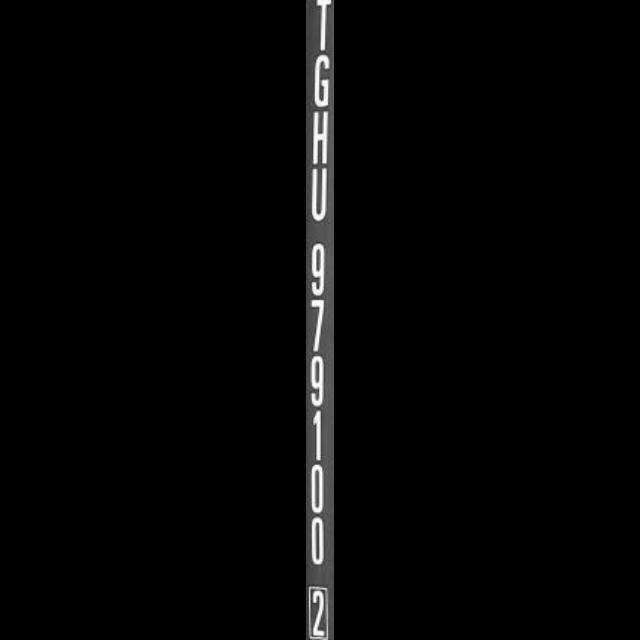0: (306, 513, 334, 569), (306, 465, 334, 513)
1: (306, 408, 334, 466)
2: (306, 582, 334, 640)
7: (306, 297, 334, 353)
9: (306, 238, 334, 296), (306, 352, 334, 408)
g: (306, 49, 334, 109)
h: (306, 106, 334, 166)
t: (306, 0, 334, 50)
u: (306, 164, 334, 222)
